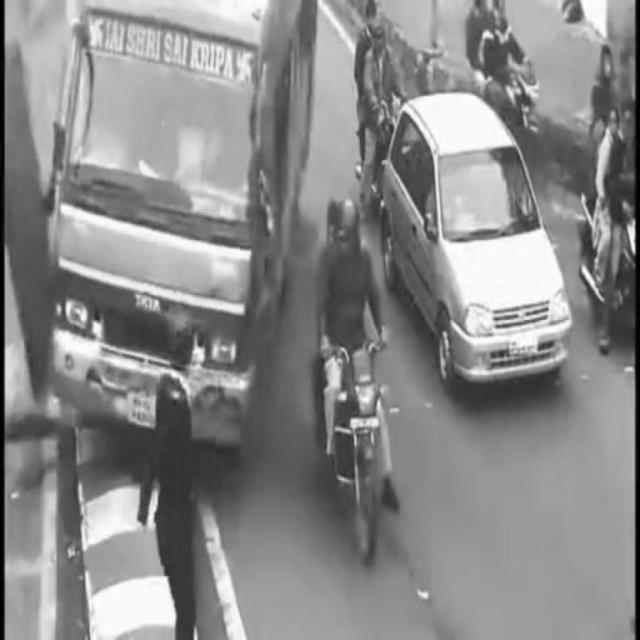person: (140, 315, 204, 639)
vehicle: (49, 3, 307, 431), (382, 91, 576, 388), (318, 198, 404, 565)
